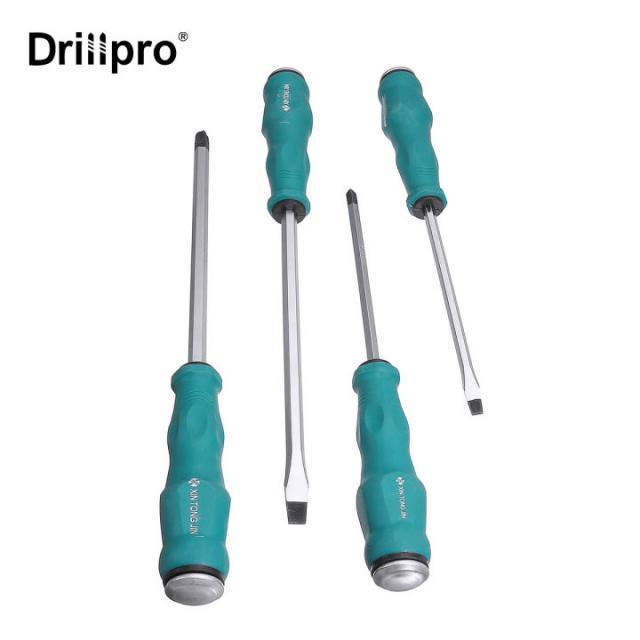screwdriver: (372, 64, 486, 422), (344, 187, 432, 598), (159, 124, 229, 608), (258, 54, 316, 536)
